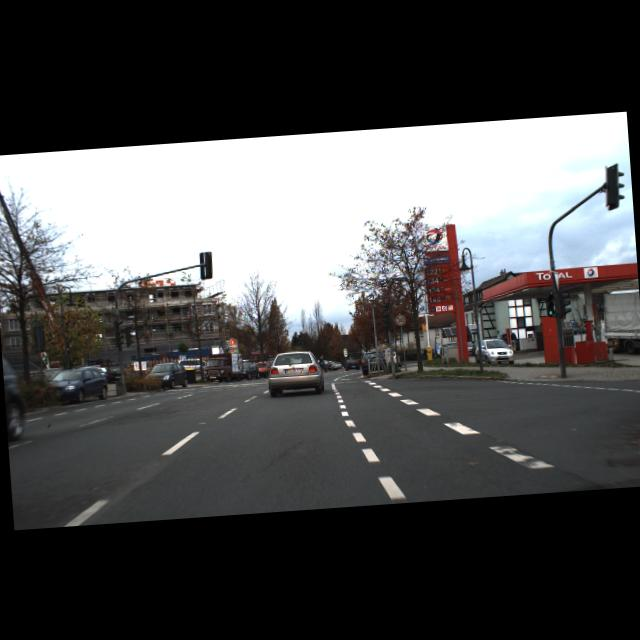prohibitory: (392, 313, 406, 326)
